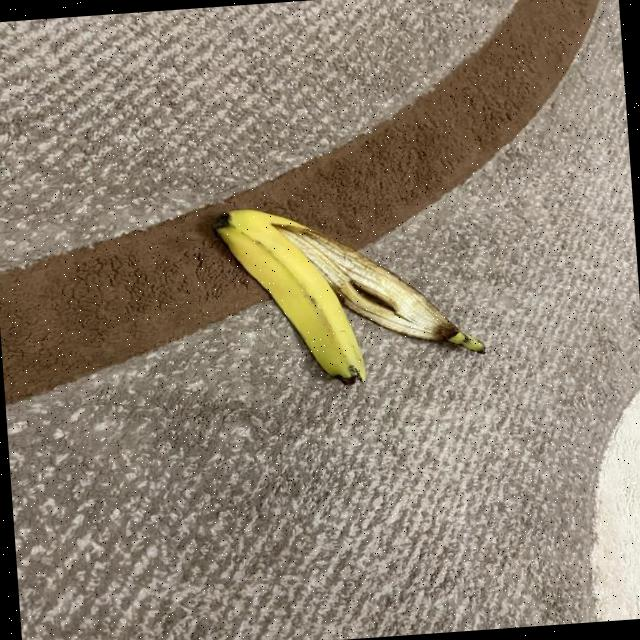banana-peel: (210, 190, 487, 394)
